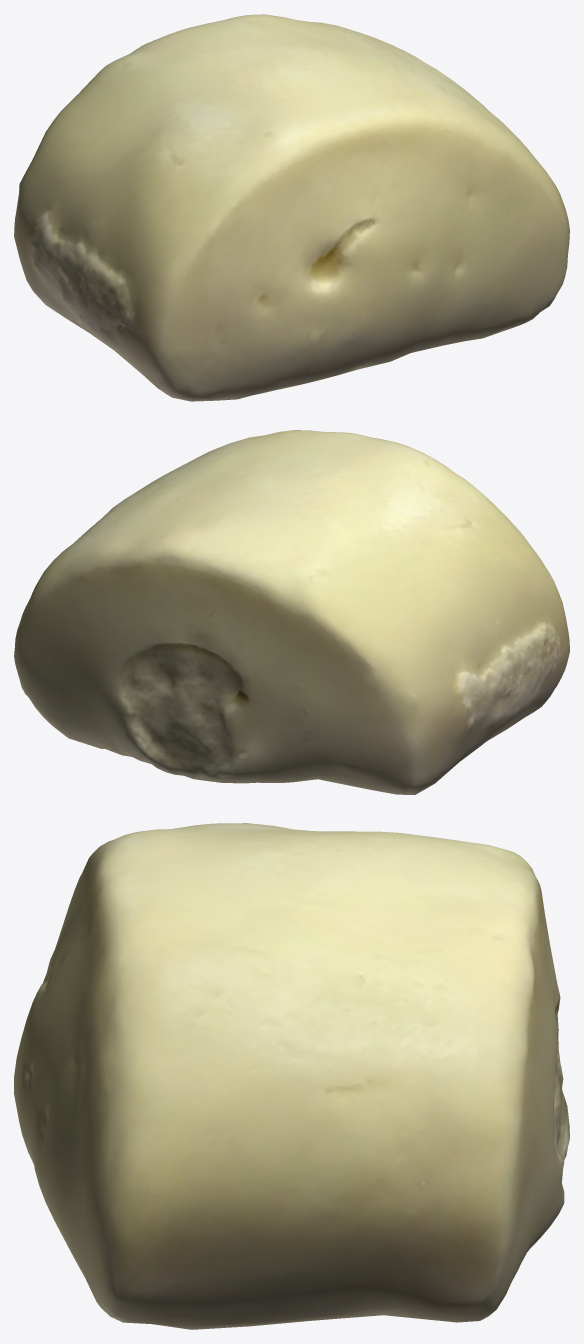
The model's file is 老面馒头.glb.
The picture shows the model from 3 angles, top to bottom: view 1: azimuth 30°, elevation 25°; view 2: azimuth 150°, elevation 25°; view 3: azimuth 270°, elevation 25°; orthographic projection. The views are drawn at different scales.
Visible parts, largest first — view 1: 老面馒头.usdz; view 2: 老面馒头.usdz; view 3: 老面馒头.usdz.
Part boxes in pixels (x1,y1,x2,y2): 老面馒头.usdz: [14, 14, 569, 401]; 老面馒头.usdz: [14, 430, 569, 794]; 老面馒头.usdz: [14, 823, 569, 1329].
Bounding box in the file's own units: 0.0841 × 0.0495 × 0.0685.
Materials: 1 (1 with a texture image).
